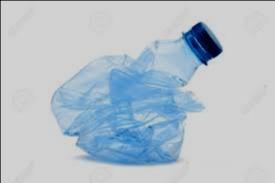Plastic: (47, 13, 224, 168)
